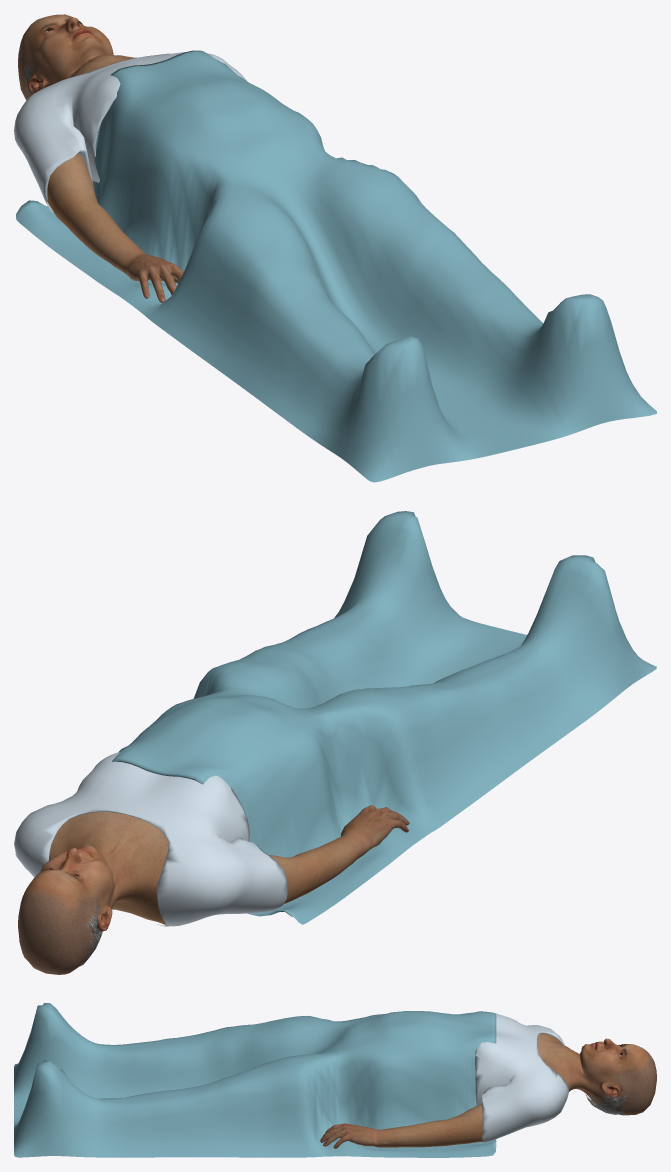
3 renders of one model, top to bottom at view 1: azimuth 30°, elevation 25°; view 2: azimuth 150°, elevation 25°; view 3: azimuth 270°, elevation 25°, orthographic. The views are drawn at different scales.
Visible parts, largest first — view 1: sheet, gown, arms, body; view 2: sheet, gown, body, arms; view 3: sheet, gown, body, arms, hair.
Boxes of the visible parts, x1,y1,x2,y2 form: sheet: [16, 50, 656, 482]; gown: [14, 52, 247, 212]; arms: [46, 153, 183, 302]; body: [18, 14, 136, 100]; sheet: [15, 511, 656, 924]; gown: [14, 752, 287, 926]; body: [18, 812, 168, 974]; arms: [269, 805, 409, 903]; sheet: [14, 1003, 496, 1157]; gown: [475, 1012, 568, 1142]; body: [537, 1033, 656, 1115]; arms: [320, 1104, 482, 1148]; hair: [585, 1075, 627, 1114].
Size of the model in its own units: 0.6413 by 0.2964 by 1.85.
Materials: 8 (6 with a texture image).
